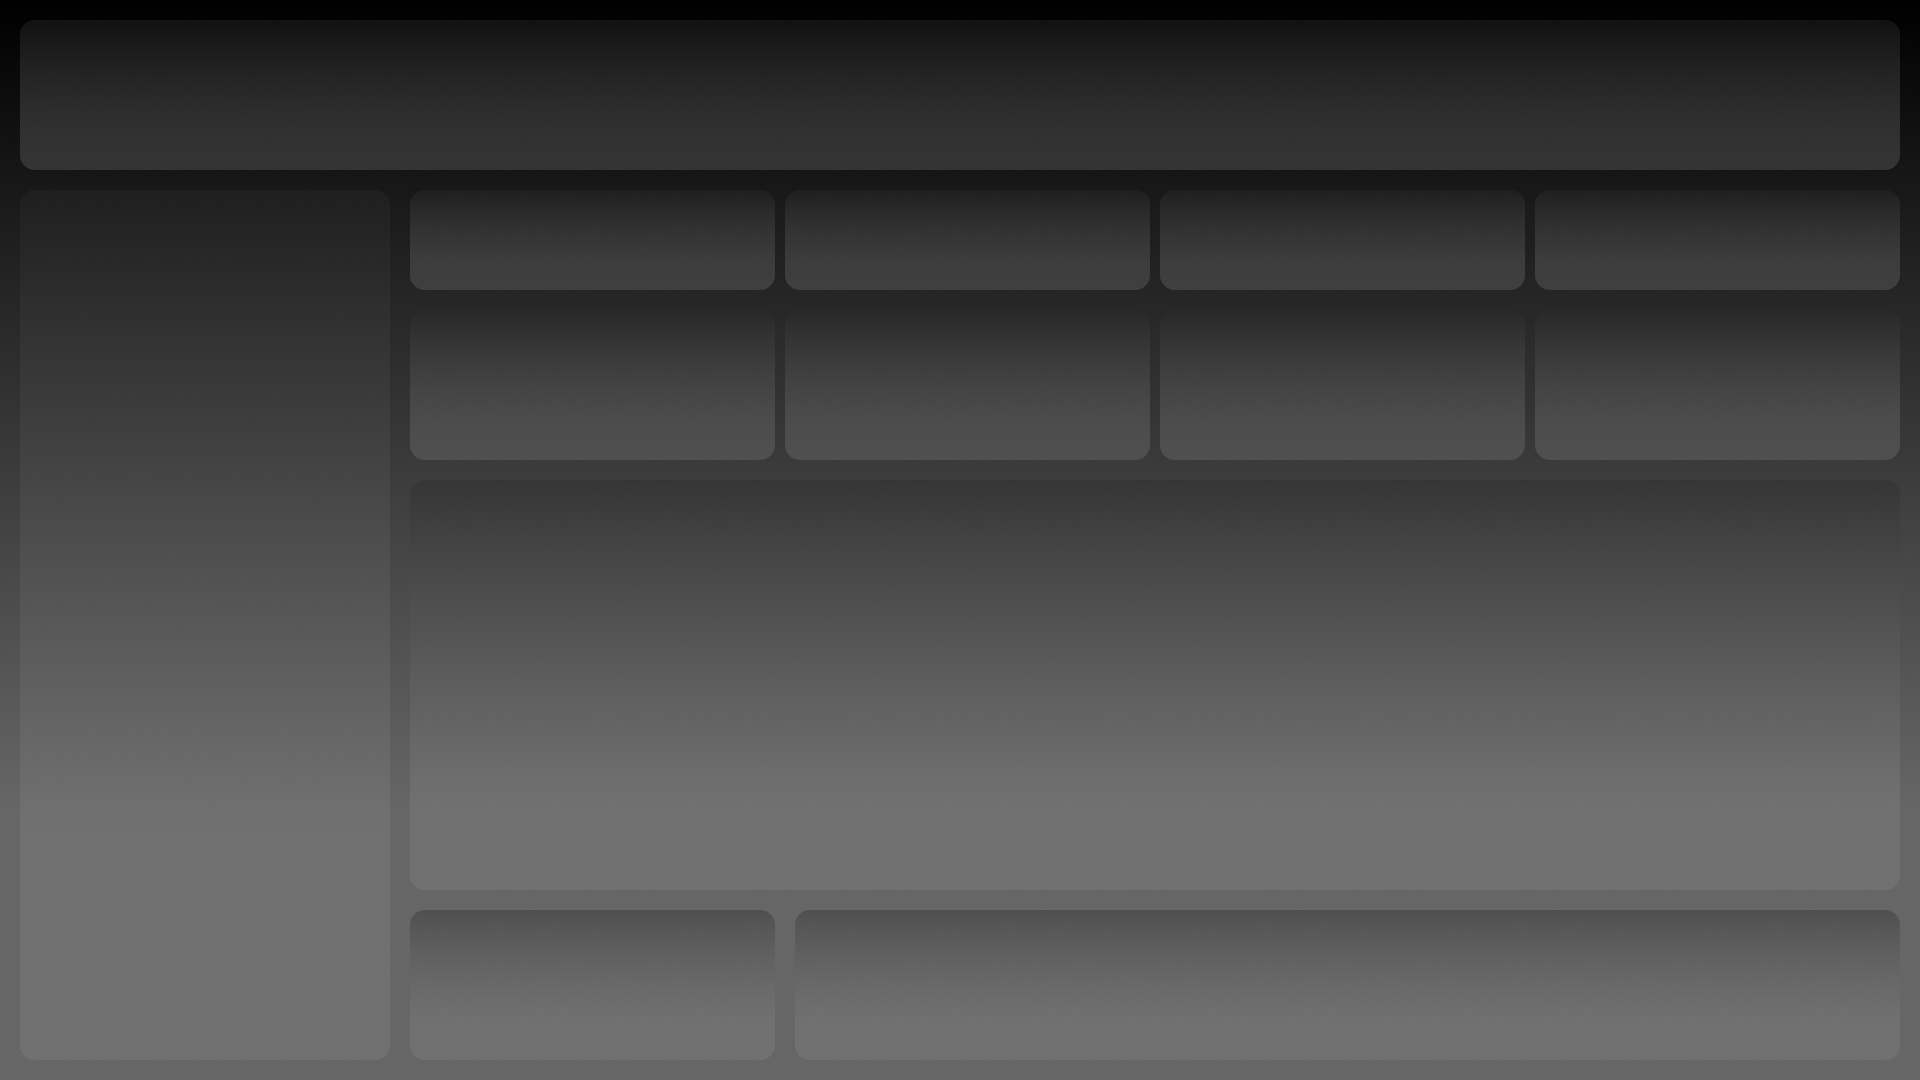

The page's visual inventory and layout, read from the dashboard file:
{"tool":"powerbi","page":{"name":"CustomerPulse","canvas":[1920,1080],"ordinal":0},"visuals":[{"type":"textbox","title":"Customer Satisfaction and Loyalty Analytics for 2024","box":[409.7,0,1492,133.4],"z":0},{"type":"map","title":"Which locations report consistently high or low satisfaction scores?","fields":{"Y":["Dim_Location.Latitude"],"X":["Dim_Location.Longitude"],"Size":["# Measures.# TotalCustomers"]},"box":[411.6,461.1,741.2,421.1],"z":1000},{"type":"map","fields":{"Y":["Dim_Location.Latitude"],"X":["Dim_Location.Longitude"],"Size":["# Measures.# TotalCustomers"]},"box":[410,906.7,365,150],"z":2000},{"type":"slicer","title":"Slicer_Group","fields":{"Values":["Dim_Customer.Group"]},"box":[411.6,163.9,365.8,99.1],"z":3000},{"type":"slicer","title":"Slicer_Gender","fields":{"Values":["Dim_Customer.Gender"]},"box":[786.9,163.9,365.8,99.1],"z":4000},{"type":"slicer","title":"Slicer_PurchaseHistory","fields":{"Values":["Dim_Customer.Purchase_History"]},"box":[1160.4,163.9,365.8,99.1],"z":5000},{"type":"slicer","title":"Slicer_SupportContacted","fields":{"Values":["Dim_Customer.Support_Contacted"]},"box":[1535.8,163.9,365.8,99.1],"z":6000},{"type":"cardVisual","title":"Card_KPI_AvgSatisfaction","fields":{"Data":["# Measures.# AVG Satisfaction"]},"box":[409.7,282,365.8,150.5],"z":7000},{"type":"lineClusteredColumnComboChart","title":"Which satisfaction factors are key to customer retention?","fields":{"Category":["Dim_Satisfaction.Factor_Category"],"Y":["# Measures.% HighLoyalty"],"Y2":["# Measures.# AvgSatisfaction"]},"box":[1160.4,461.1,741.2,421.1],"z":8000},{"type":"cardVisual","title":"Card_KPI_HighLoyalty","fields":{"Data":["# Measures.# High Loyalty"]},"box":[783.1,282,369.7,150.5],"z":9000},{"type":"cardVisual","fields":{"Data":["# Measures.% SupportContacted"]},"box":[1160.4,282,365.8,150.5],"z":10000},{"type":"cardVisual","fields":{"Data":["# Measures.# MostCommonSatisfactionFactor"]},"box":[1535.8,282,365.8,150.5],"z":11000},{"type":"shape","box":[786.9,907,1114.7,150.5],"z":12000},{"type":"textbox","title":"OmniRetail","box":[17.1,0,375.4,133.4],"z":13000},{"type":"actionButton","box":[17.1,968,373.5,74.3],"z":14000},{"type":"actionButton","box":[17.1,878.4,373.5,74.3],"z":15000},{"type":"textbox","title":"Navigation Panel","box":[17.1,188.6,373.5,49.5],"z":16000},{"type":"actionButton","box":[17.1,280.1,373.5,74.3],"z":17000},{"type":"actionButton","box":[17.1,377.3,373.5,74.3],"z":18000},{"type":"actionButton","box":[17.1,474.5,373.5,74.3],"z":19000},{"type":"textbox","title":"Social Media","box":[17.1,798.4,373.5,49.5],"z":20000},{"type":"actionButton","box":[17.1,569.7,373.5,74.3],"z":21000}]}

Visuals, with their boxes in screenshot pixels (x1, y1, x2, y2), scaled from the page's 1920x1080 canvas onto the 1920x1080 screenshot:
"Customer Satisfaction and Loyalty Analytics for 2024" textbox: locate(410, 0, 1902, 133)
"Which locations report consistently high or low satisfaction scores?" map: locate(412, 461, 1153, 882)
map - Dim_Location.Latitude x Dim_Location.Longitude: locate(410, 907, 775, 1057)
"Slicer_Group" slicer: locate(412, 164, 777, 263)
"Slicer_Gender" slicer: locate(787, 164, 1153, 263)
"Slicer_PurchaseHistory" slicer: locate(1160, 164, 1526, 263)
"Slicer_SupportContacted" slicer: locate(1536, 164, 1902, 263)
"Card_KPI_AvgSatisfaction" cardVisual: locate(410, 282, 776, 432)
"Which satisfaction factors are key to customer retention?" lineClusteredColumnComboChart: locate(1160, 461, 1902, 882)
"Card_KPI_HighLoyalty" cardVisual: locate(783, 282, 1153, 432)
cardVisual - # Measures.% SupportContacted: locate(1160, 282, 1526, 432)
cardVisual - # Measures.# MostCommonSatisfactionFactor: locate(1536, 282, 1902, 432)
shape: locate(787, 907, 1902, 1058)
"OmniRetail" textbox: locate(17, 0, 392, 133)
actionButton: locate(17, 968, 391, 1042)
actionButton: locate(17, 878, 391, 953)
"Navigation Panel" textbox: locate(17, 189, 391, 238)
actionButton: locate(17, 280, 391, 354)
actionButton: locate(17, 377, 391, 452)
actionButton: locate(17, 474, 391, 549)
"Social Media" textbox: locate(17, 798, 391, 848)
actionButton: locate(17, 570, 391, 644)
